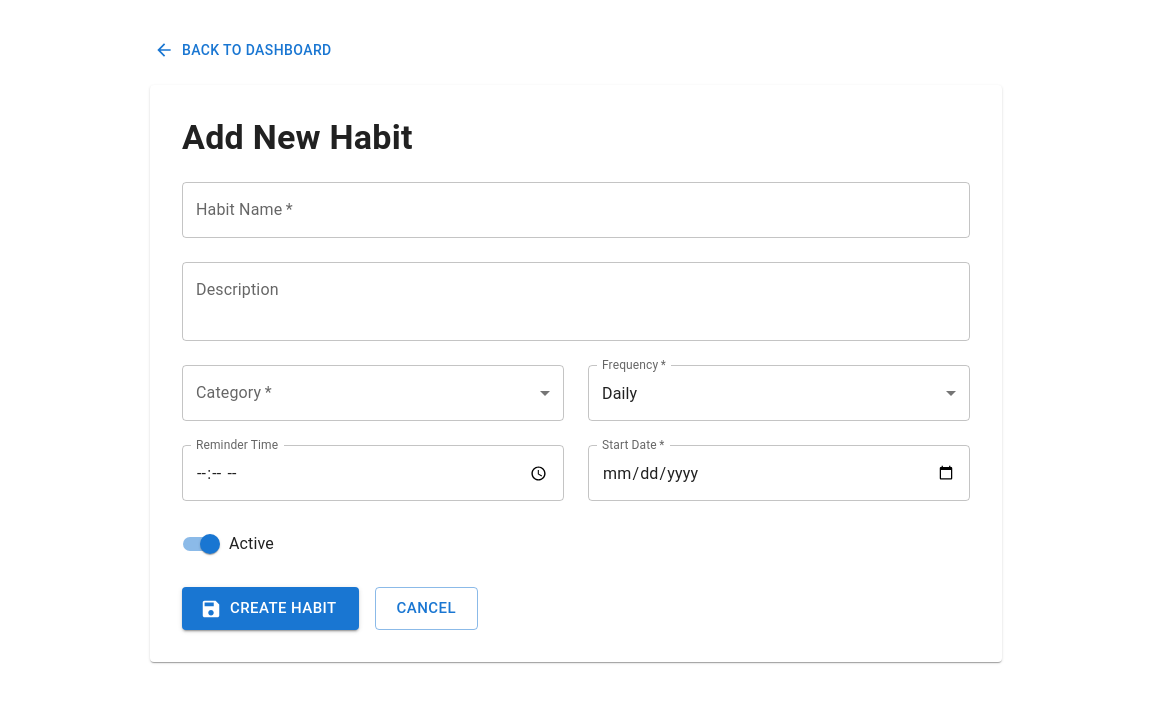
Test: HabitForm › shows custom days when frequency is Custom
Press the mouse on the dropdown named "frequency" at [620, 394], box [602,384,637,403]
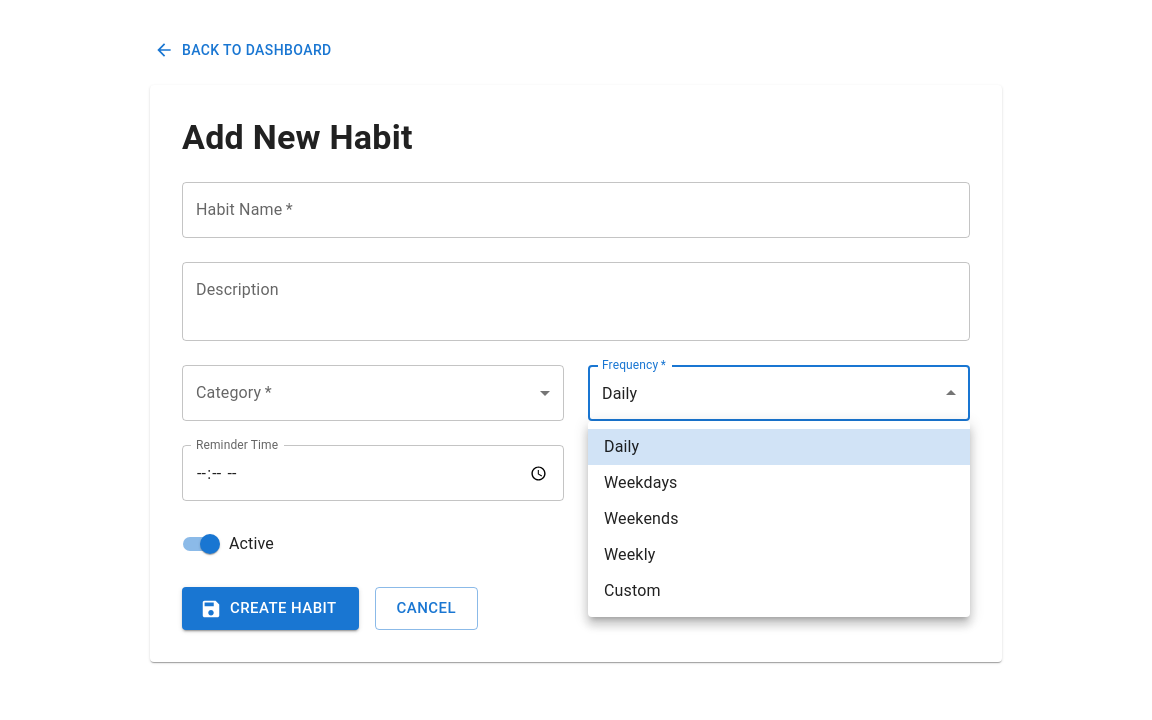
Click the option "Custom" at [632, 590], box [604,581,661,600]
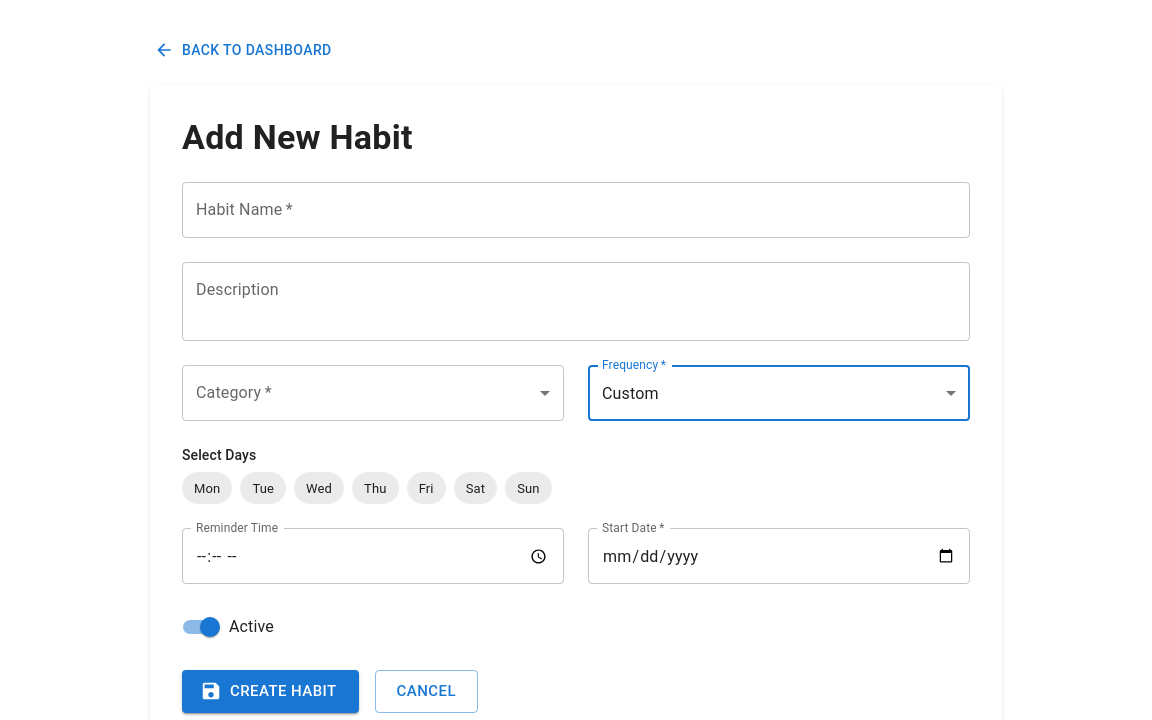
Expected: the text "Mon" is shown, [194,481,220,496]
Expected: the text "Tue" is shown, [252,481,274,496]
